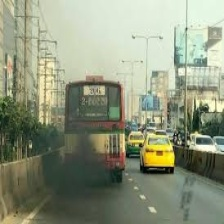smoke: (55, 155, 102, 191)
